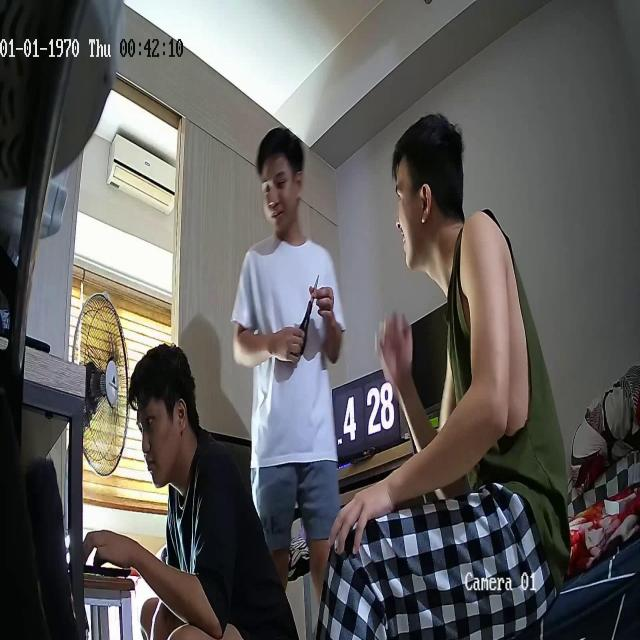scissor: (298, 276, 320, 358)
